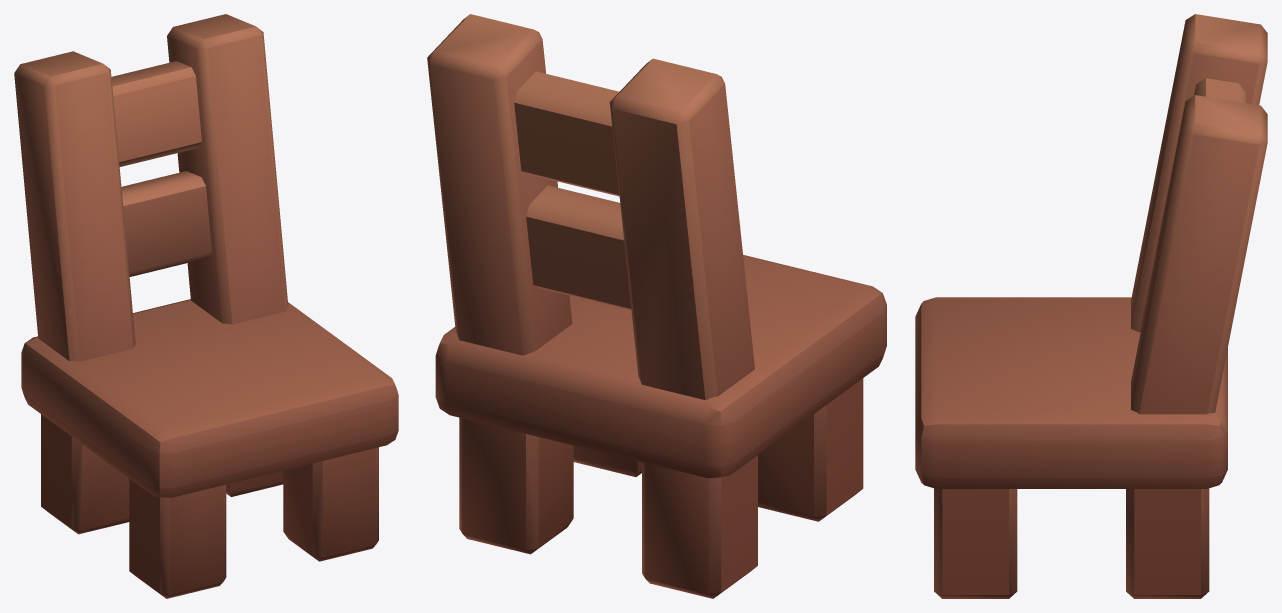
3 renders of one model, left to right at view 1: azimuth 30°, elevation 25°; view 2: azimuth 150°, elevation 25°; view 3: azimuth 270°, elevation 25°, orthographic. The views are drawn at different scales.
Visible parts, largest first — view 1: chair_A_wood; view 2: chair_A_wood; view 3: chair_A_wood.
Part boxes in pixels (left/top/right/bottom): chair_A_wood: left=14, top=14, right=398, bottom=598; chair_A_wood: left=427, top=14, right=886, bottom=598; chair_A_wood: left=915, top=14, right=1267, bottom=598.
Size of the model in its own units: 0.75 by 1.26 by 0.8451.
Materials: 1 (1 with a texture image).
